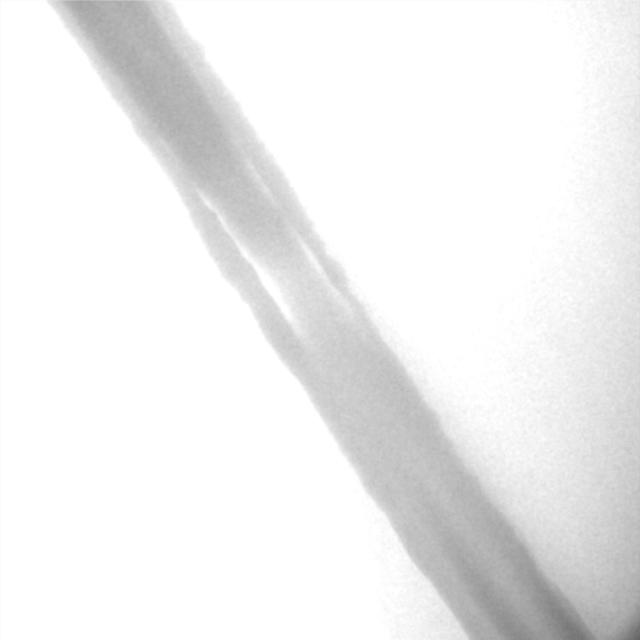unfused: (201, 161, 347, 337)
